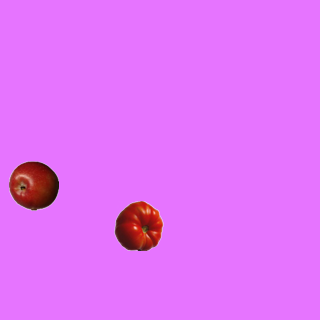Apple Braeburn: (8, 160, 58, 210)
Tomato 3: (113, 200, 163, 250)
